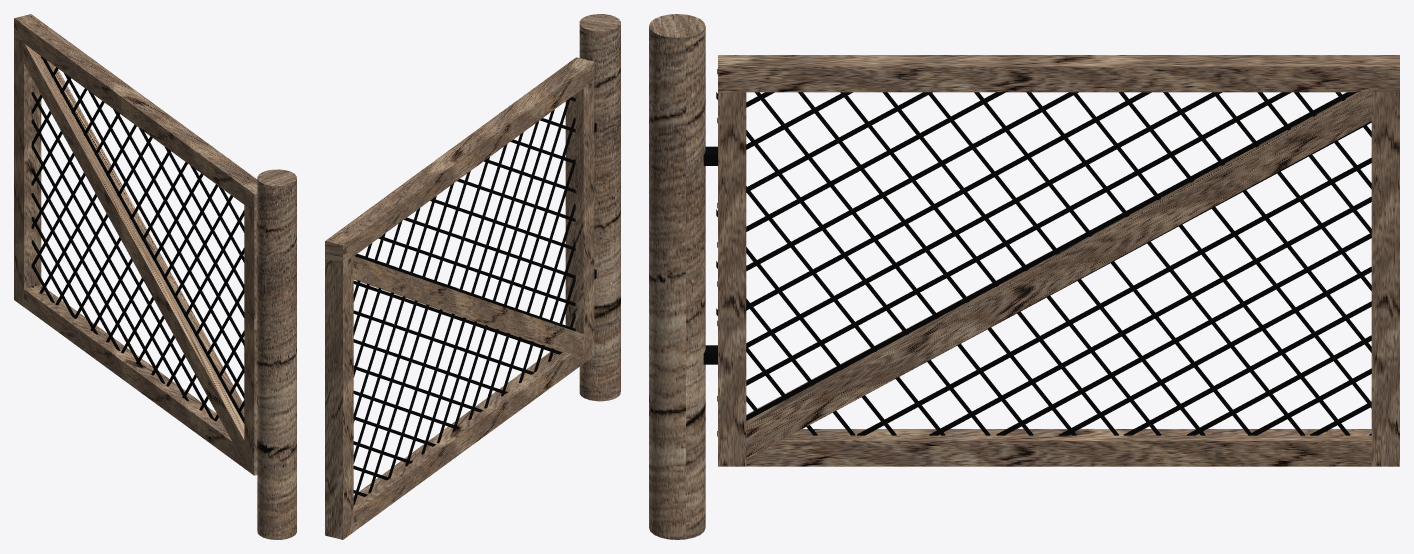
The model's file is porteNiveau2.fbx.
3 renders of one model, left to right at view 1: azimuth 30°, elevation 25°; view 2: azimuth 150°, elevation 25°; view 3: azimuth 270°, elevation 25°, orthographic. The views are drawn at different scales.
Visible parts, largest first — view 1: pCube68; view 2: pCube68; view 3: pCube68.
Part boxes in pixels (x1,y1,x2,y2): pCube68: (14,14,296,539); pCube68: (325,14,620,539); pCube68: (649,14,1399,539).
Size of the model in its own units: 2 by 19.61 by 26.58.
